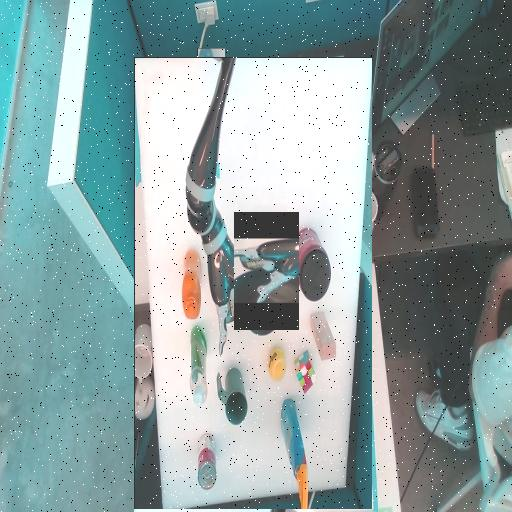bowl: (218, 232, 268, 318)
cleanser: (300, 162, 316, 241)
coffee_can: (175, 284, 214, 322)
jaco: (234, 239, 299, 304)
meat_can: (267, 244, 289, 298)
mug: (258, 156, 289, 186)
mustard_bottle: (305, 249, 324, 317)
rubik: (190, 185, 212, 207)
soup_can: (290, 78, 308, 133)
tennis_ball: (221, 195, 238, 212)
windex: (198, 49, 225, 167)
wooden_block: (171, 208, 195, 254)
workspace: (134, 58, 372, 509)
